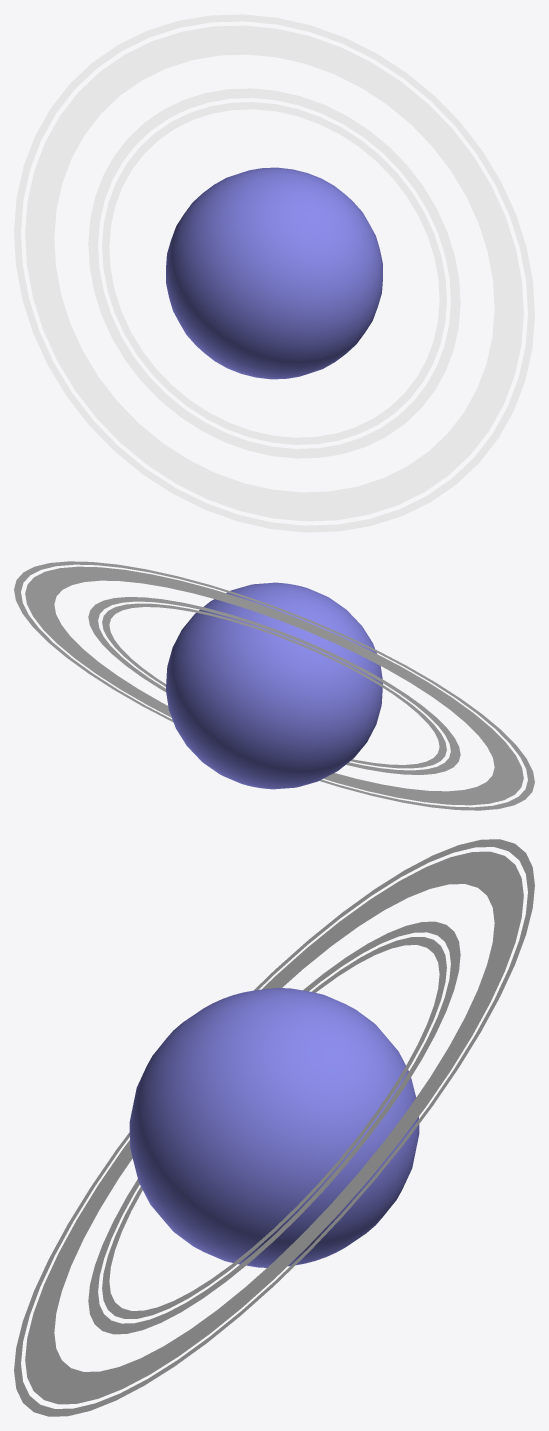
Rendered from harriot-55.cancri.fbx.
3 renders of one model, top to bottom at view 1: azimuth 30°, elevation 25°; view 2: azimuth 150°, elevation 25°; view 3: azimuth 270°, elevation 25°, orthographic. The views are drawn at different scales.
Visible parts, largest first — view 1: Torus, Harriot; view 2: Harriot, Torus; view 3: Harriot, Torus.
Boxes of the visible parts, bbox=[...] form: Torus: bbox=[14, 14, 534, 532]; Harriot: bbox=[166, 167, 382, 379]; Harriot: bbox=[166, 582, 382, 789]; Torus: bbox=[14, 561, 534, 810]; Harriot: bbox=[129, 988, 419, 1267]; Torus: bbox=[14, 839, 534, 1416].
Size of the model in its own units: 1768 by 1266 by 1233.
